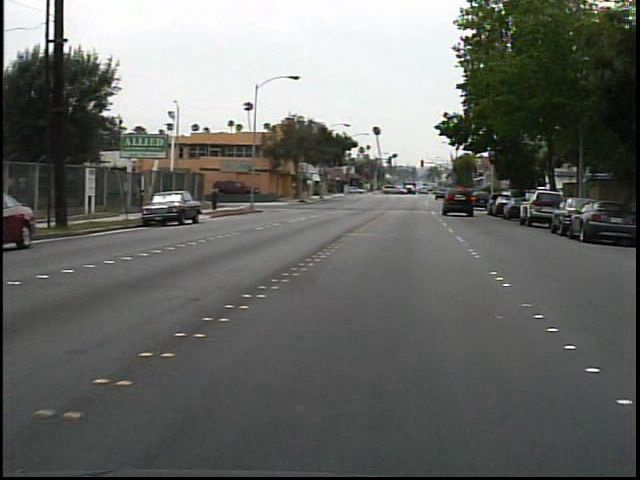person: (213, 182, 228, 215)
